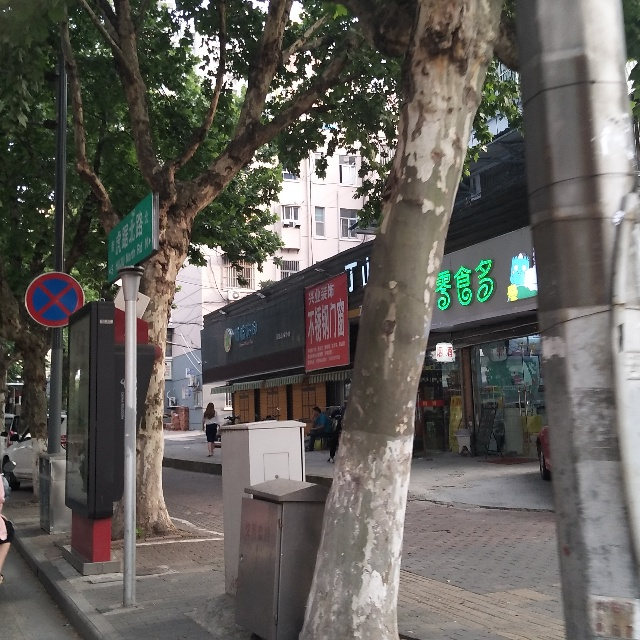stop: (25, 276, 81, 325)
